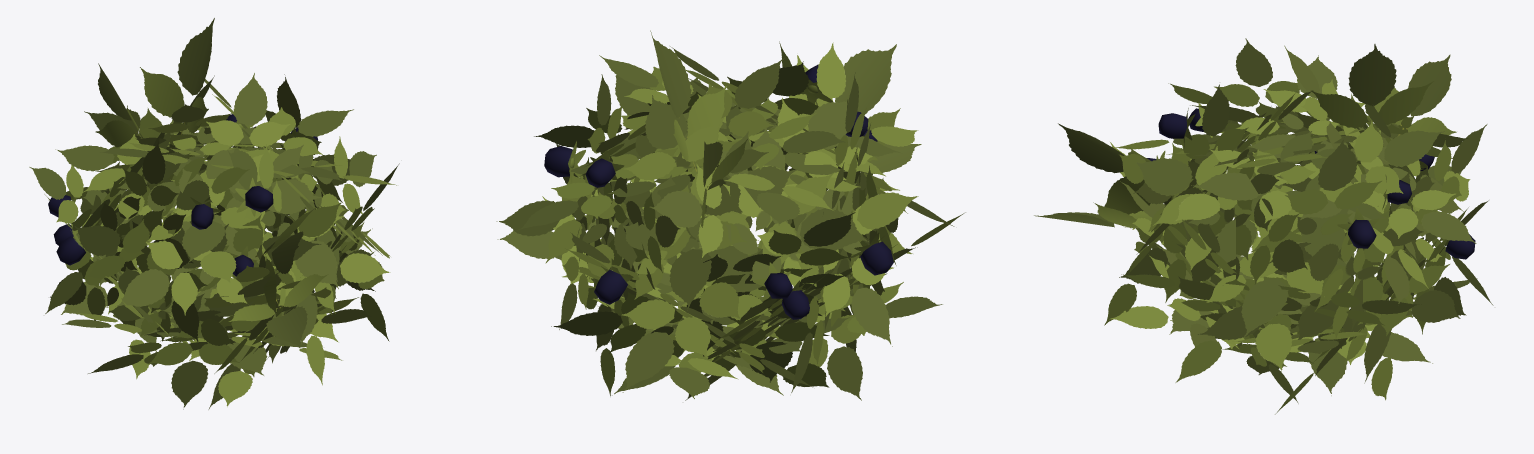
Rendered from Blackberry_Bush_1b.fbx.
The picture shows the model from 3 angles, left to right: view 1: azimuth 30°, elevation 25°; view 2: azimuth 150°, elevation 25°; view 3: azimuth 270°, elevation 25°; orthographic projection. The views are drawn at different scales.
Parts seen in each view (by area): view 1: Blackberry_Bush_1b; view 2: Blackberry_Bush_1b; view 3: Blackberry_Bush_1b.
Part boxes in pixels (x1,y1,x2,y2): Blackberry_Bush_1b: (29, 18, 399, 409); Blackberry_Bush_1b: (496, 30, 965, 400); Blackberry_Bush_1b: (1034, 38, 1493, 414).
Size of the model in its own units: 99.72 by 86.71 by 99.49.
1 material, 1 textured.
